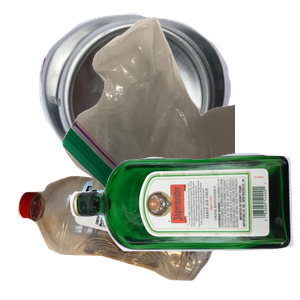glass: (67, 150, 300, 300)
metal: (37, 11, 261, 180)
plastic: (15, 173, 222, 300)
trash: (60, 14, 300, 194)
